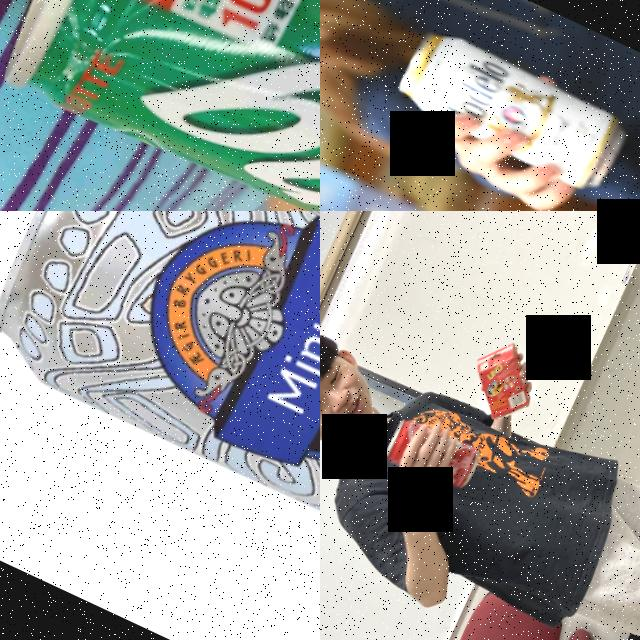can: (0, 211, 320, 584), (0, 0, 320, 211), (384, 412, 484, 494)
